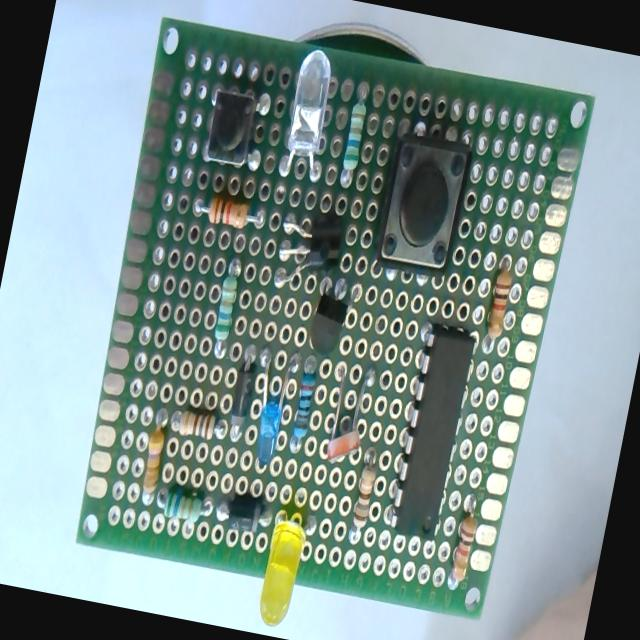IC: (391, 323, 477, 539)
cds: (322, 358, 376, 468)
diode: (226, 349, 258, 442), (219, 489, 274, 536)
led: (276, 46, 342, 182), (252, 508, 315, 632), (243, 344, 303, 470)
resistor: (209, 264, 243, 361), (348, 448, 381, 538), (173, 398, 236, 445), (338, 97, 370, 189), (448, 502, 481, 586), (138, 414, 170, 499), (197, 194, 265, 232), (290, 364, 320, 444), (484, 268, 514, 340), (158, 487, 205, 525)
switch: (374, 132, 474, 278), (199, 85, 277, 175)
transistor: (273, 210, 347, 303), (306, 274, 363, 354)
